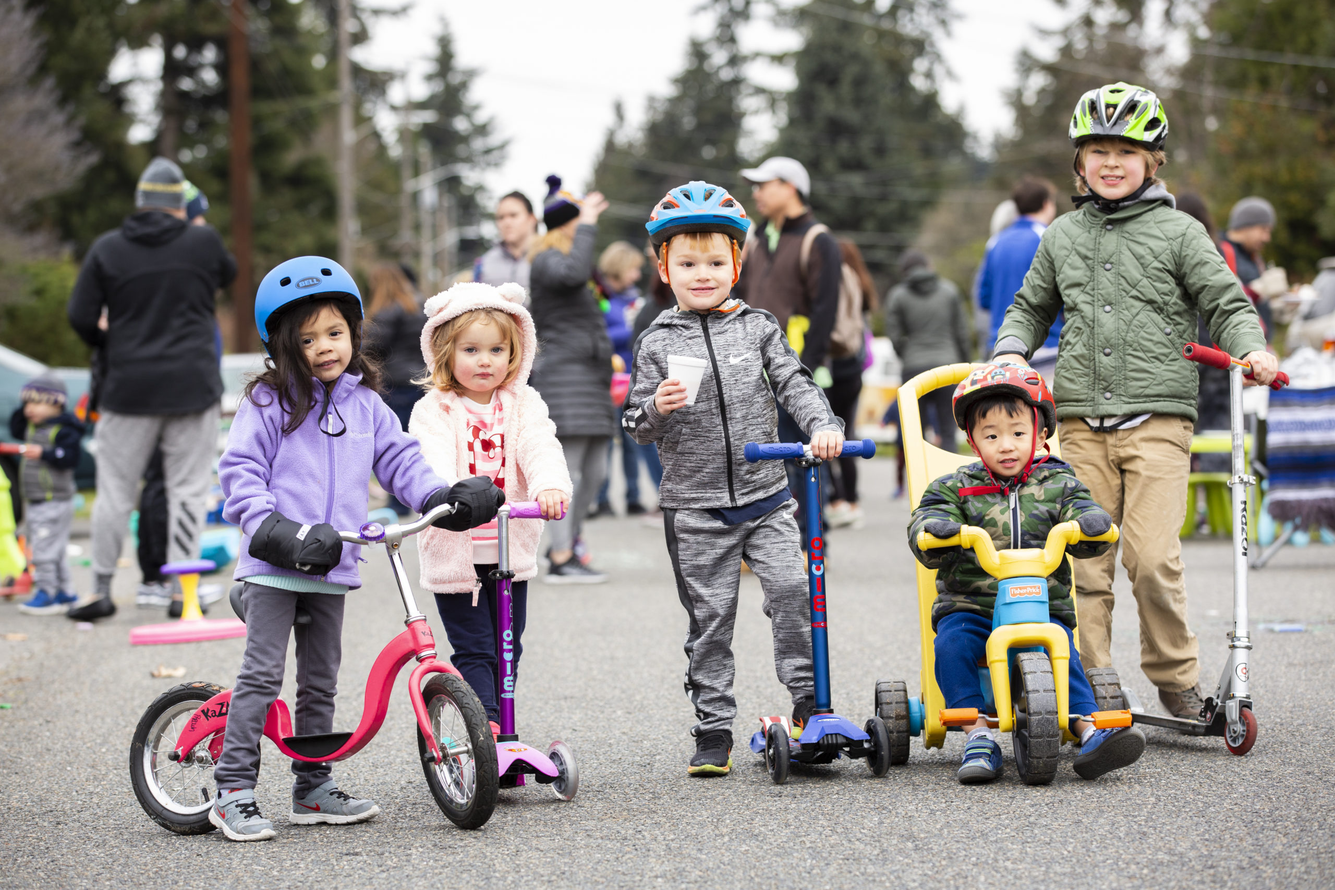Person: (1038, 64, 1259, 741), (608, 190, 845, 779), (207, 245, 381, 841), (921, 353, 1139, 811), (51, 161, 227, 639), (402, 283, 555, 766)
